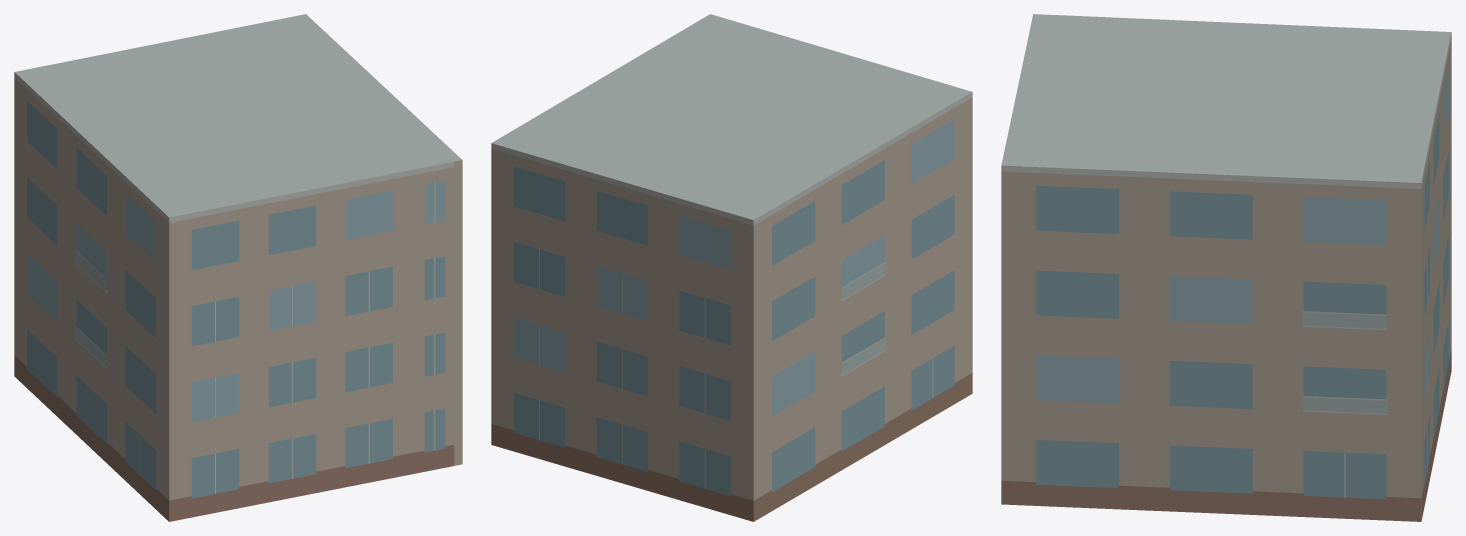
Rendered from survey-upis-32985207.glb.
The picture shows the model from 3 angles, left to right: view 1: azimuth 30°, elevation 25°; view 2: azimuth 150°, elevation 25°; view 3: azimuth 270°, elevation 25°; orthographic projection. The views are drawn at different scales.
Parts seen in each view (by area): view 1: survey-upis-32985207.tmp; view 2: survey-upis-32985207.tmp; view 3: survey-upis-32985207.tmp.
Part boxes in pixels (x1,y1,x2,y2): survey-upis-32985207.tmp: (14,14,462,521); survey-upis-32985207.tmp: (491,14,972,521); survey-upis-32985207.tmp: (1001,14,1451,521).
Size of the model in its own units: 14.72 by 13.75 by 16.56.
